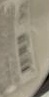1d: (16, 31, 33, 74)
